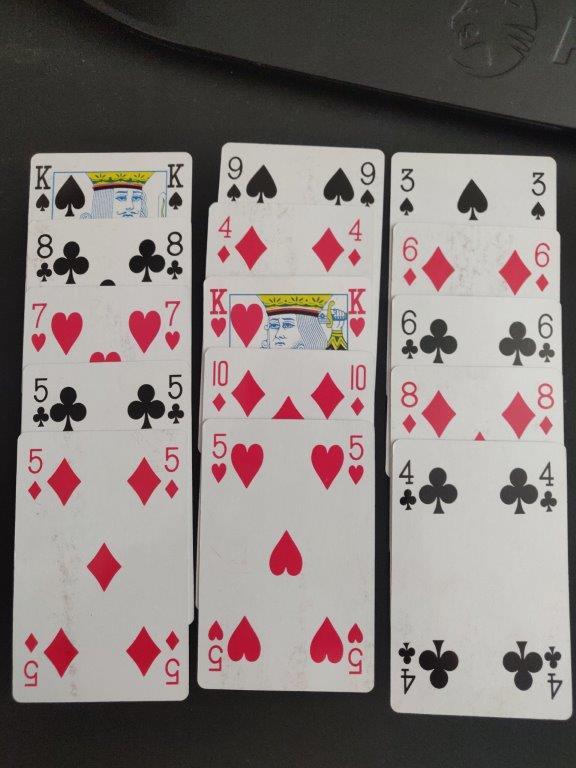10D: (343, 357, 371, 421), (206, 350, 230, 417)
3S: (525, 168, 552, 222), (395, 162, 419, 219)
4C: (394, 455, 422, 513), (537, 454, 562, 518)
4D: (212, 214, 237, 268), (344, 214, 367, 272)
5C: (26, 372, 57, 432), (162, 368, 189, 426)
5D: (158, 441, 184, 500), (23, 442, 47, 503)
5H: (208, 428, 232, 487), (345, 430, 368, 487)
6C: (395, 303, 422, 364), (535, 309, 560, 368)
6D: (528, 236, 556, 296), (398, 231, 423, 288)
7H: (160, 294, 184, 357), (26, 299, 51, 356)
8C: (32, 229, 57, 285), (164, 226, 187, 285)
8D: (395, 375, 422, 437), (532, 380, 559, 439)
9S: (352, 154, 384, 214), (222, 152, 249, 205)
KH: (345, 284, 370, 341), (207, 281, 230, 341)
KS: (30, 160, 57, 214), (163, 157, 187, 210)
